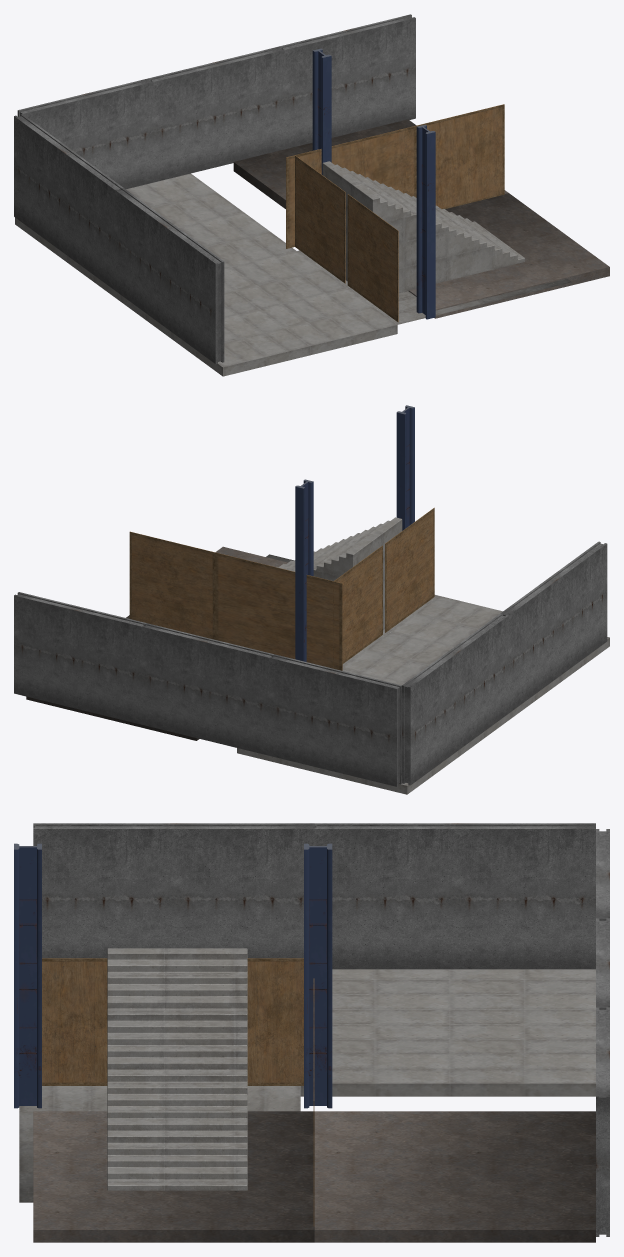
File: BuildingMap_3_1.gltf
3 renders of one model, top to bottom at view 1: azimuth 30°, elevation 25°; view 2: azimuth 150°, elevation 25°; view 3: azimuth 270°, elevation 25°, orthographic. The views are drawn at different scales.
Parts seen in each view (by area): view 1: SM_Floors_Thick_130, SM_Building_Pieces_WallConcrete6m18, SM_Building_Pieces_WallConcrete6m19, SM_BP_WallCon_8x18, SM_BP_WallCon_8x19, SM_Floors_Thick_163, SM_Building_Pieces_WallConcrete6m17, stairs, SM_Floors_Thick_131, SM_Wall_Inside_44, SM_Wall_Inside_45, SM_Wall_Inside_47 (+5 smaller); view 2: SM_Building_Pieces_WallConcrete6m17, SM_Building_Pieces_WallConcrete6m18, SM_Building_Pieces_WallConcrete6m19, SM_BP_WallCon_8x19, SM_BP_WallCon_8x18, SM_Wall_Inside_45, SM_Wall_Inside_44, SM_Floors_Thick_130, SM_Wall_Inside_47, SM_Wall_Inside_46, stairs, SM_Building_Pieces_2_SteelRudder188 (+4 smaller); view 3: SM_BP_WallCon_8x19, SM_Floors_Thick_162, SM_BP_WallCon_8x18, stairs, SM_Floors_Thick_131, SM_Floors_Thick_163, SM_Wall_Inside_47, SM_Building_Pieces_2_SteelRudder188, SM_Building_Pieces_2_SteelRudder191, SM_Wall_Inside_46, SM_Floors_Plain_53, SM_Building_Pieces_WallConcrete6m19 (+2 smaller).
Part boxes in pixels (x1,y1,x2,y2): SM_Floors_Thick_130: [122, 251, 397, 376]; SM_Building_Pieces_WallConcrete6m18: [149, 46, 284, 182]; SM_Building_Pieces_WallConcrete6m19: [280, 14, 415, 149]; SM_BP_WallCon_8x18: [115, 188, 224, 364]; SM_BP_WallCon_8x19: [14, 114, 123, 290]; SM_Floors_Thick_163: [408, 193, 609, 318]; SM_Building_Pieces_WallConcrete6m17: [17, 78, 153, 189]; stairs: [322, 161, 525, 293]; SM_Floors_Thick_131: [15, 173, 296, 302]; SM_Wall_Inside_44: [417, 104, 504, 208]; SM_Wall_Inside_45: [286, 125, 417, 248]; SM_Wall_Inside_47: [347, 194, 398, 322]; SM_Building_Pieces_WallConcrete6m17: [269, 654, 401, 786]; SM_Building_Pieces_WallConcrete6m18: [141, 623, 273, 755]; SM_Building_Pieces_WallConcrete6m19: [14, 592, 146, 724]; SM_BP_WallCon_8x19: [402, 613, 508, 785]; SM_BP_WallCon_8x18: [500, 541, 607, 712]; SM_Wall_Inside_45: [214, 552, 342, 670]; SM_Wall_Inside_44: [129, 531, 214, 639]; SM_Floors_Thick_130: [342, 596, 609, 717]; SM_Wall_Inside_47: [385, 507, 434, 632]; SM_Wall_Inside_46: [333, 545, 382, 668]; stairs: [276, 517, 402, 630]; SM_Building_Pieces_2_SteelRudder188: [295, 479, 313, 661]; SM_BP_WallCon_8x19: [314, 823, 595, 969]; SM_Floors_Thick_162: [314, 1111, 595, 1242]; SM_BP_WallCon_8x18: [33, 823, 314, 958]; stairs: [107, 948, 247, 1190]; SM_Floors_Thick_131: [300, 969, 595, 1096]; SM_Floors_Thick_163: [33, 1111, 314, 1242]; SM_Wall_Inside_47: [42, 958, 107, 1085]; SM_Building_Pieces_2_SteelRudder188: [304, 843, 332, 1108]; SM_Building_Pieces_2_SteelRudder191: [14, 843, 41, 1108]; SM_Wall_Inside_46: [247, 958, 303, 1085]; SM_Floors_Plain_53: [19, 1086, 300, 1202]; SM_Building_Pieces_WallConcrete6m19: [596, 1007, 609, 1236].
Bounding box in the file's own units: 18.4 × 8.52 × 16.95.
9 materials, 9 textured.
